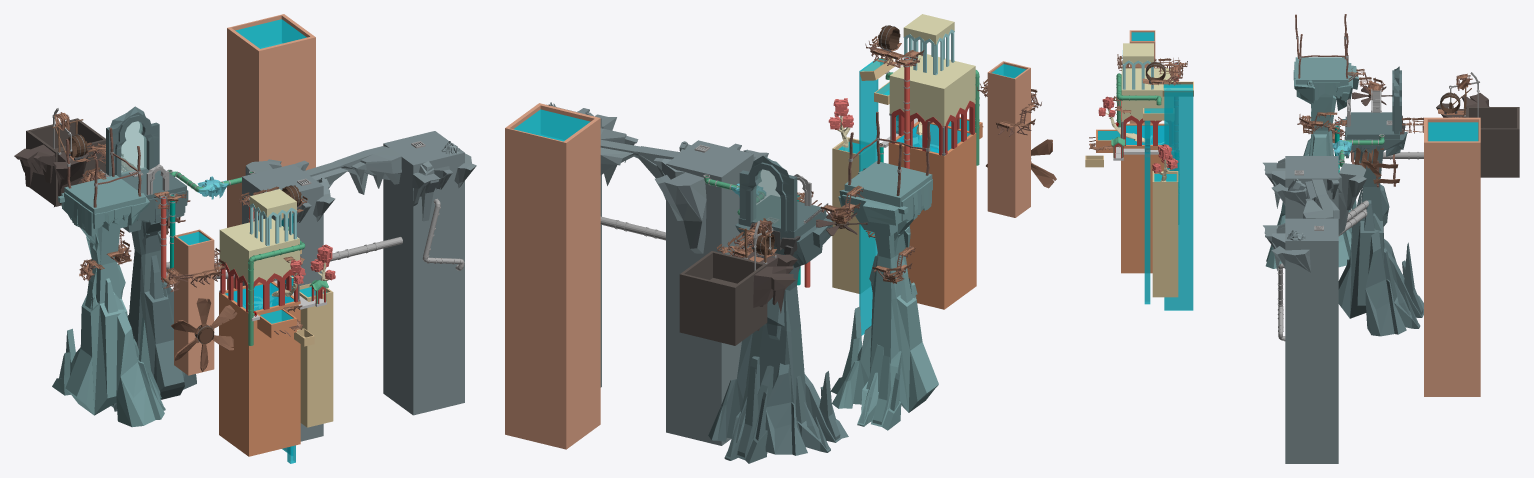
File: Level_4_Old.fbx
3 views of the same model, side by side, from view 1: azimuth 30°, elevation 25°; view 2: azimuth 150°, elevation 25°; view 3: azimuth 270°, elevation 25° (orthographic). The views are drawn at different scales.
Parts seen in each view (by area): view 1: pointLight7; view 2: pointLight7; view 3: pointLight7.
Part boxes in pixels (x1=…): pointLight7: x1=14, y1=14, x2=476, y2=463; pointLight7: x1=505, y1=14, x2=1056, y2=463; pointLight7: x1=1085, y1=14, x2=1519, y2=463.
Size of the model in its own units: 860 by 690 by 921.
